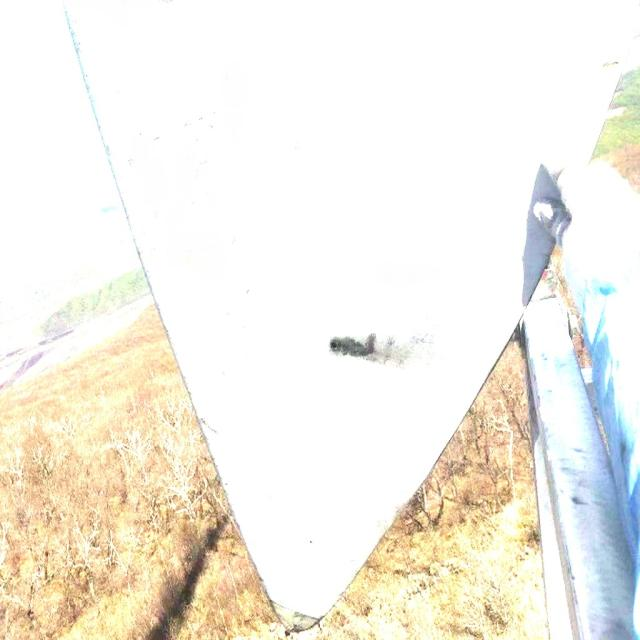crack: (323, 329, 408, 366)
